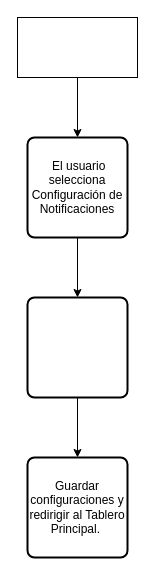
This 155x576 diagram has some shape labels left out. Each missing label, with the centre of its shape:
Configuración de Notificaciones: the point at 77,47
El usuario configura los recordatorios y notificaciones inteligentes.: the point at 77,347
